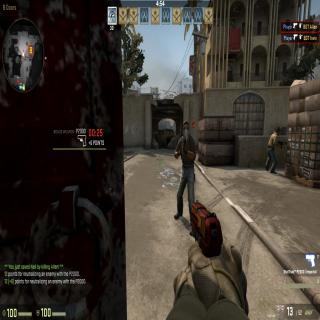T-Body: (175, 118, 198, 221), (266, 124, 280, 171)
T-Head: (181, 118, 190, 142), (274, 126, 282, 136)
